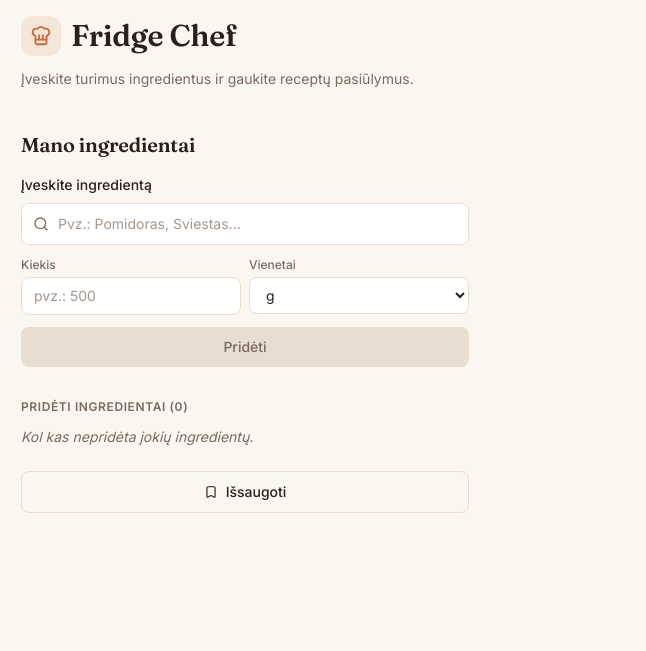
Test case: Home Page Integration Tests › Test 6: Vienetų pasirinkimas su skirtingais vienetais › leidžia pasirinkti skirtingus matavimo vienetus
Type "Pien" into the dropdown labelled "Įveskite ingredientą" at coordinates (245, 224), box x1=21 y1=203 x2=469 y2=245
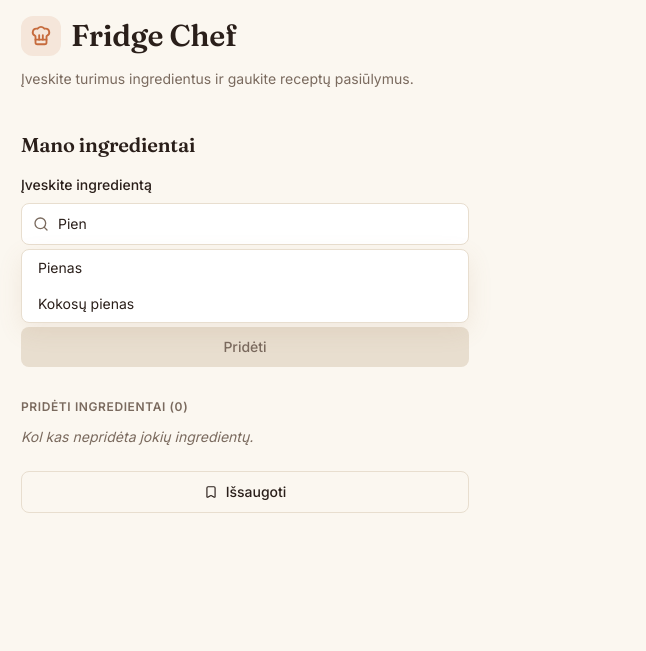
Press the mouse on the option "Pienas" at coordinates (60, 267), box x1=38 y1=259 x2=82 y2=276
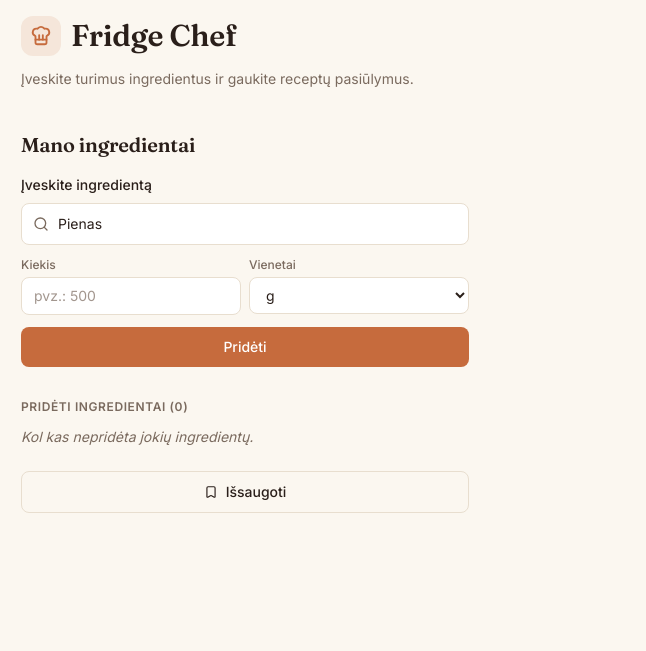
Type "500" into the number field labelled "Kiekis" at coordinates (131, 296), box x1=21 y1=277 x2=241 y2=315
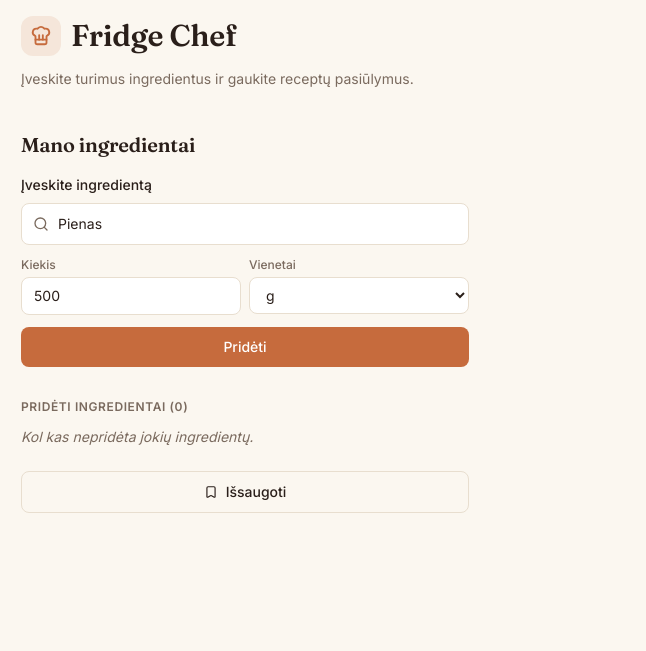
Select "ml" in the dropdown labelled "Vienetai" at coordinates (359, 295), box x1=249 y1=277 x2=469 y2=314
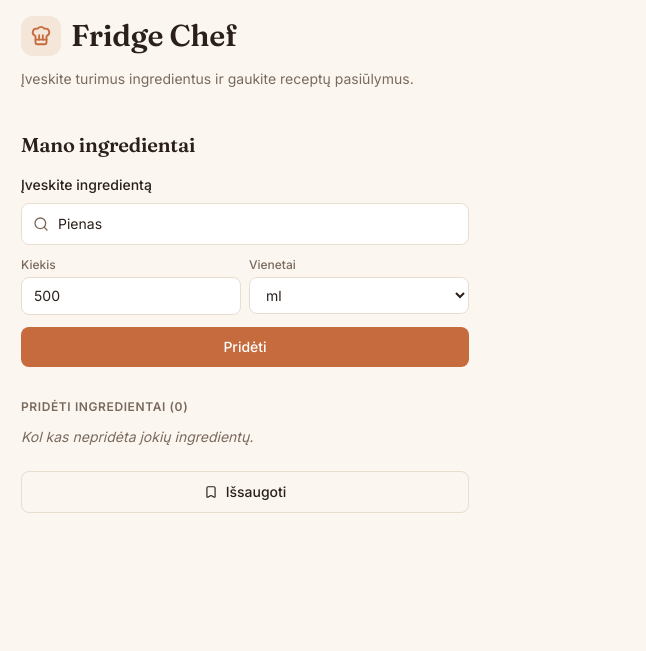
Click the button "Pridėti" at coordinates (245, 347), box x1=21 y1=327 x2=469 y2=367
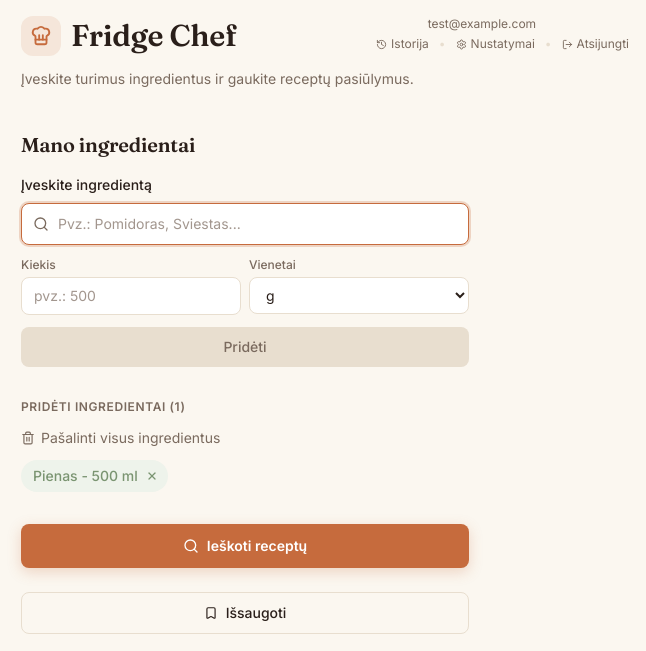
Expected: the button "Pienas - 500 ml" is shown, x1=33 y1=466 x2=138 y2=486
